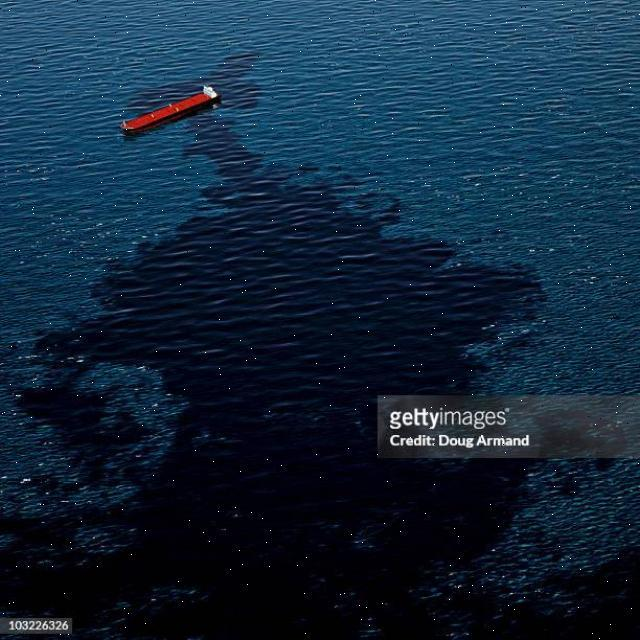oil_spillage: (78, 124, 534, 640)
